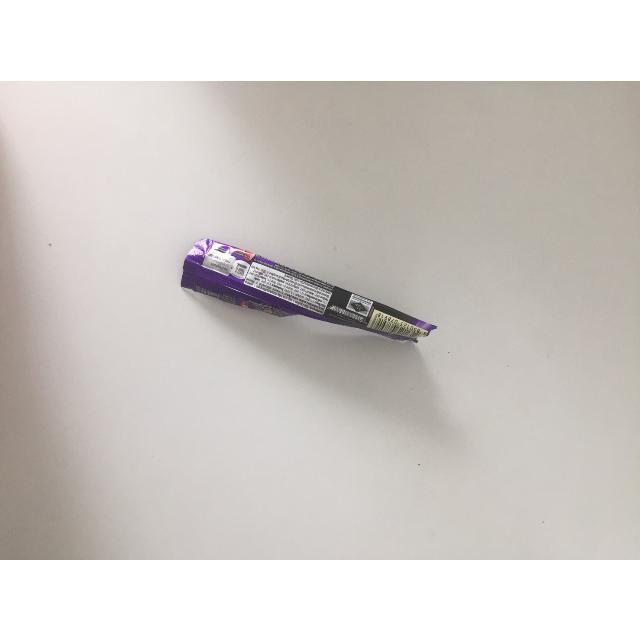Paquete de plastico: (183, 237, 440, 343)
